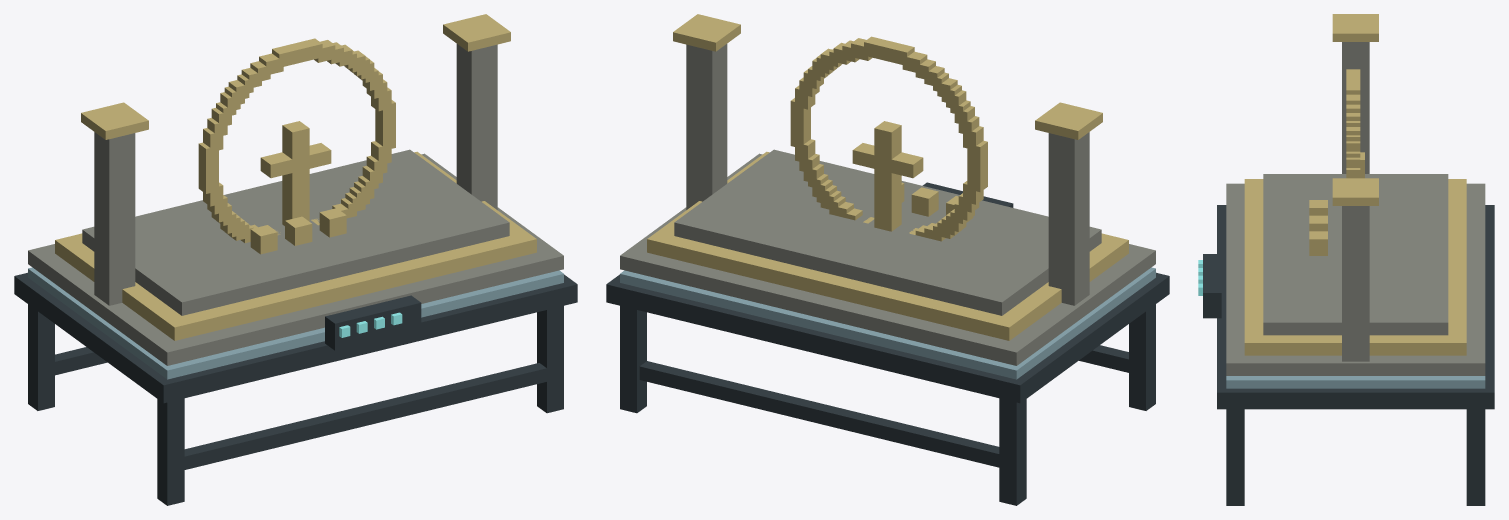
File: sanctity_station_t9.glb
3 renders of one model, left to right at view 1: azimuth 30°, elevation 25°; view 2: azimuth 150°, elevation 25°; view 3: azimuth 270°, elevation 25°, orthographic. The views are drawn at different scales.
Visible parts, largest first — view 1: sanctity_station_t9/work_surface, sanctity_station_t9/reliquary, sanctity_station_t9/frame; view 2: sanctity_station_t9/work_surface, sanctity_station_t9/reliquary, sanctity_station_t9/frame; view 3: sanctity_station_t9/work_surface, sanctity_station_t9/frame, sanctity_station_t9/reliquary.
Boxes of the visible parts, bbox=[...] form: sanctity_station_t9/work_surface: bbox=[28, 149, 563, 379]; sanctity_station_t9/reliquary: bbox=[81, 14, 510, 305]; sanctity_station_t9/frame: bbox=[14, 272, 577, 505]; sanctity_station_t9/work_surface: bbox=[620, 149, 1155, 379]; sanctity_station_t9/reliquary: bbox=[673, 14, 1102, 305]; sanctity_station_t9/frame: bbox=[606, 272, 1169, 505]; sanctity_station_t9/work_surface: bbox=[1198, 174, 1485, 388]; sanctity_station_t9/frame: bbox=[1217, 205, 1494, 505]; sanctity_station_t9/reliquary: bbox=[1309, 14, 1378, 361].
Size of the model in its own units: 3 by 2.5 by 2.
